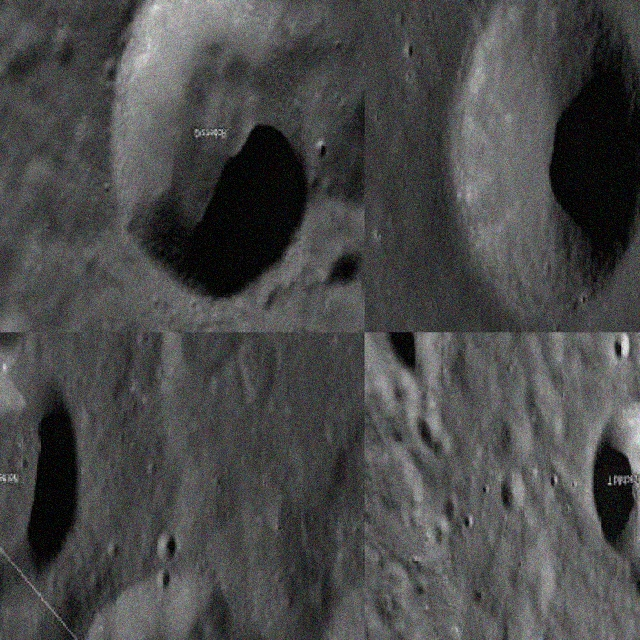crater: (109, 0, 308, 306), (446, 0, 639, 314), (0, 346, 80, 591), (71, 558, 283, 638), (590, 402, 638, 560), (155, 529, 177, 560)
